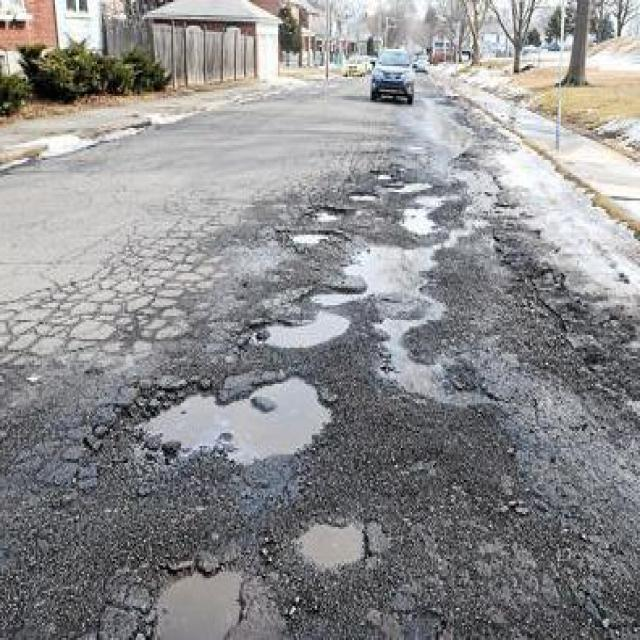Pothole: (132, 369, 338, 463), (149, 555, 254, 638), (247, 306, 354, 346), (296, 514, 371, 565), (281, 224, 338, 246), (311, 284, 366, 301), (309, 201, 348, 222), (348, 188, 382, 201)
